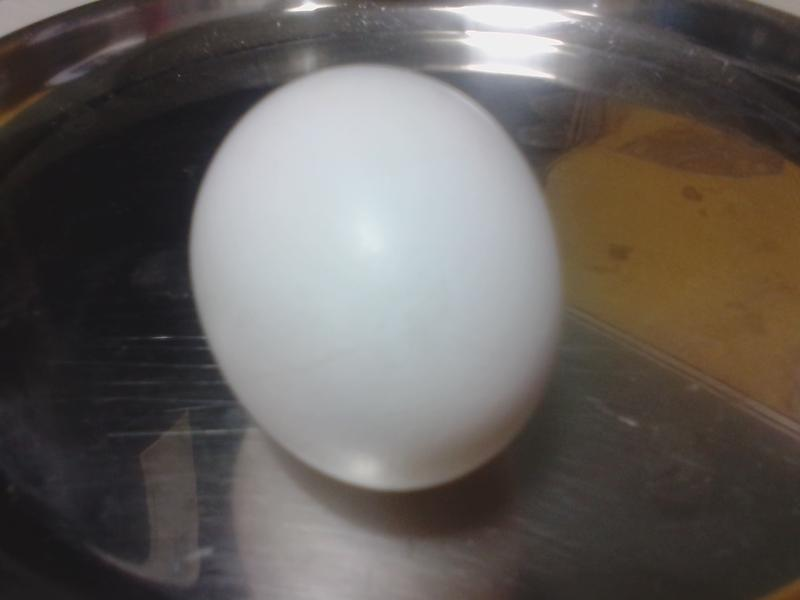egg: (185, 63, 560, 491)
